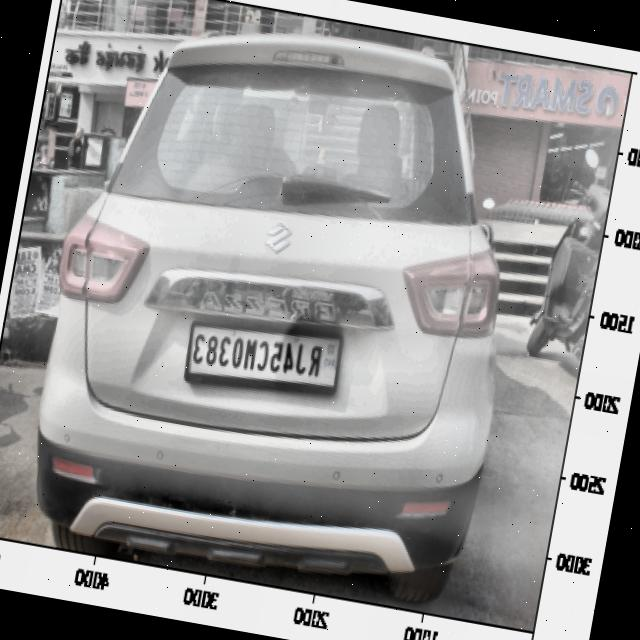license_plate: (182, 312, 332, 399)
